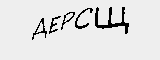Д: (30, 17, 47, 40)
Е: (47, 14, 61, 36)
Р: (59, 8, 74, 32)
С: (73, 5, 93, 32)
Щ: (93, 6, 132, 34)
